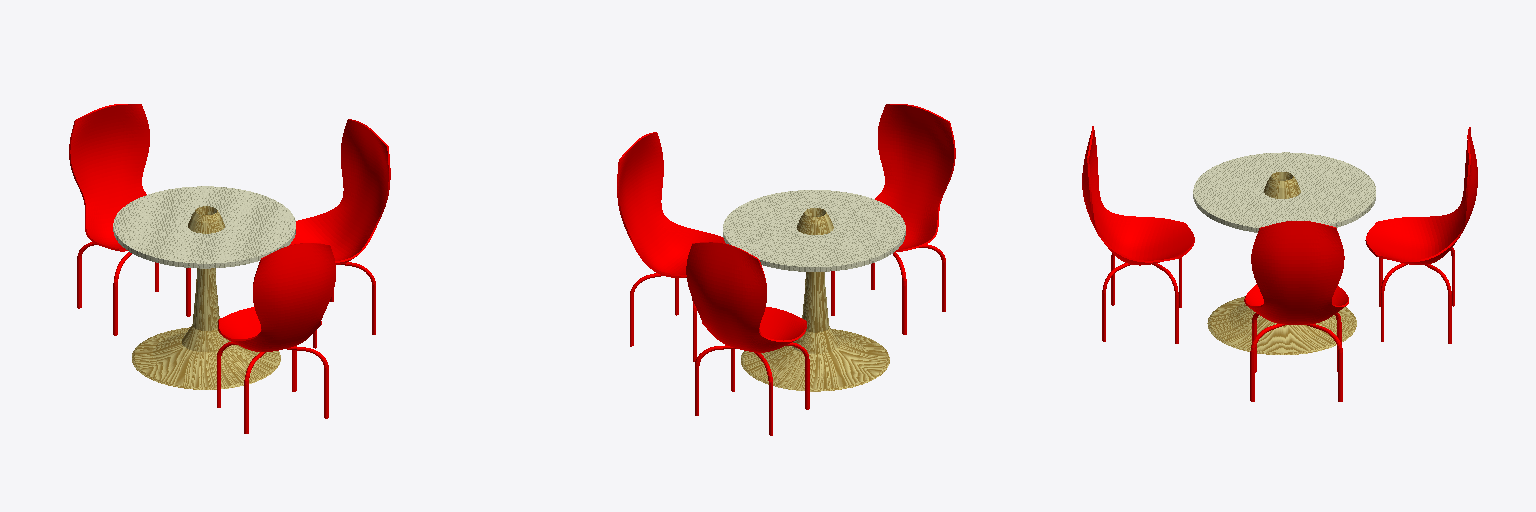
3 views of the same model, side by side, from view 1: azimuth 30°, elevation 25°; view 2: azimuth 150°, elevation 25°; view 3: azimuth 270°, elevation 25° (orthographic).
Parts seen in each view (by area): view 1: Cylinder002, Plane003, Cylinder001, Plane002, Plane001, Line007, Line005, Line004, Line003; view 2: Cylinder002, Plane002, Plane003, Cylinder001, Plane001, Line003, Line004; view 3: Cylinder002, Plane001, Cylinder001, Plane003, Plane002, Line002, Line001, Line005.
Boxes of the visible parts, box(x1,y1,x2,y2) form: Cylinder002: box(113, 186, 295, 268); Plane003: box(218, 243, 335, 351); Cylinder001: box(132, 206, 280, 389); Plane002: box(69, 104, 149, 251); Plane001: box(289, 119, 390, 264); Line007: box(217, 342, 328, 418); Line005: box(244, 350, 296, 433); Line004: box(77, 242, 190, 316); Line003: box(113, 252, 158, 335); Cylinder002: box(723, 190, 905, 271); Plane002: box(686, 242, 806, 352); Plane003: box(875, 104, 955, 251); Cylinder001: box(741, 208, 889, 391); Plane001: box(617, 132, 725, 277); Line003: box(695, 342, 809, 415); Line004: box(731, 349, 772, 435); Cylinder002: box(1193, 152, 1375, 232); Plane001: box(1244, 221, 1348, 324); Cylinder001: box(1207, 172, 1356, 354); Plane003: box(1082, 126, 1194, 265); Plane002: box(1365, 127, 1477, 264); Line002: box(1252, 313, 1342, 401); Line001: box(1250, 313, 1341, 401); Line005: box(1111, 253, 1178, 343).
Bounding box in the file's own units: 156 × 109 × 208.
3 materials, 2 textured.